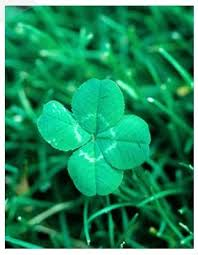4-clover: (37, 77, 151, 199)
